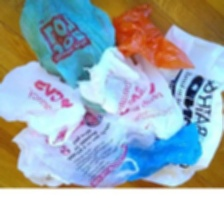plastic_bag: (138, 19, 224, 188), (9, 104, 135, 190), (12, 0, 120, 90), (0, 55, 88, 150), (98, 0, 197, 75), (107, 117, 211, 182), (122, 48, 184, 146), (74, 41, 154, 115)
